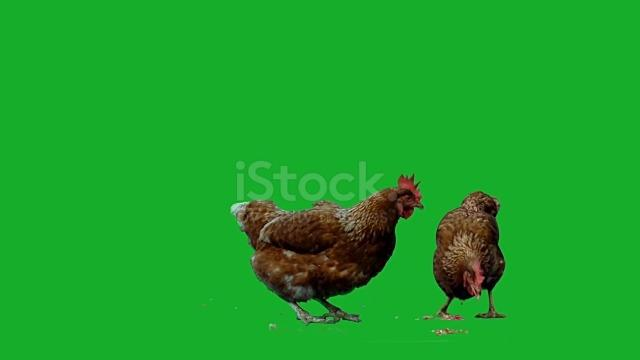Normal: (233, 179, 423, 325), (433, 183, 508, 321)
